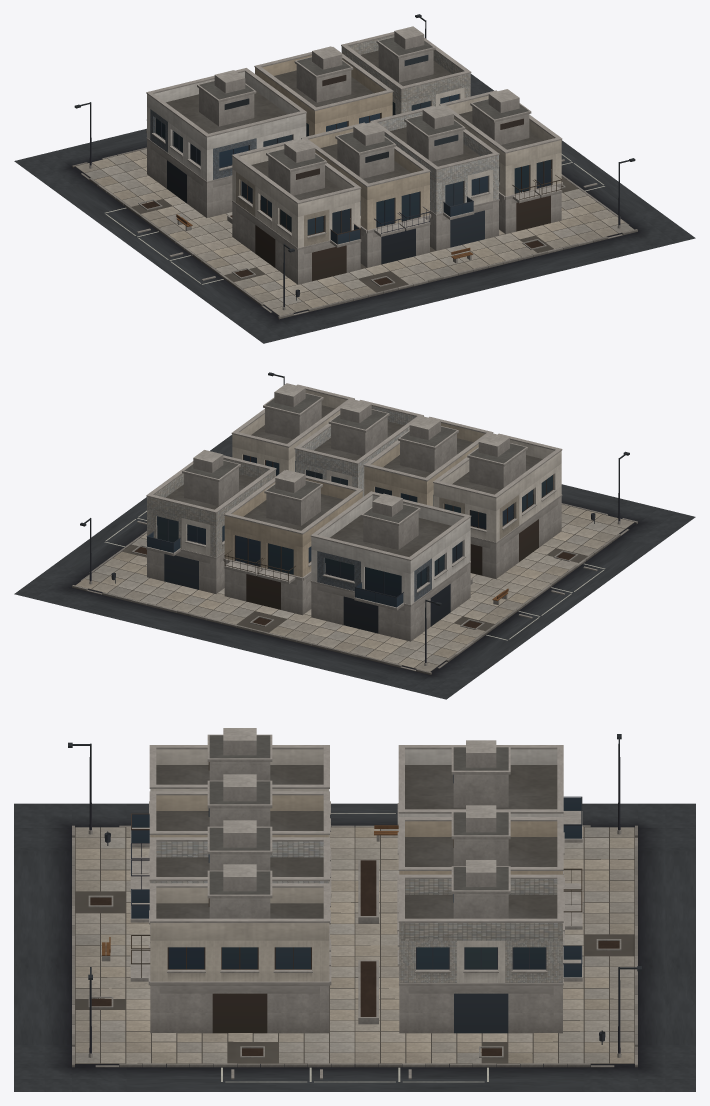
Rendered from modulo_E_lod0.glb.
The picture shows the model from 3 angles, top to bottom: view 1: azimuth 30°, elevation 25°; view 2: azimuth 150°, elevation 25°; view 3: azimuth 270°, elevation 25°; orthographic projection. The views are drawn at different scales.
Parts seen in each view (by area): view 1: modulo_E_lod0_tex, modulo_E_lod0_solid; view 2: modulo_E_lod0_tex, modulo_E_lod0_solid; view 3: modulo_E_lod0_tex, modulo_E_lod0_solid.
Boxes of the visible parts, x1,y1,x2,y2 form: modulo_E_lod0_tex: (14, 26, 695, 343); modulo_E_lod0_solid: (74, 14, 635, 306); modulo_E_lod0_tex: (14, 383, 695, 699); modulo_E_lod0_solid: (80, 372, 629, 662); modulo_E_lod0_tex: (14, 728, 695, 1091); modulo_E_lod0_solid: (68, 734, 641, 1053).
Bounding box in the file's own units: 40 × 9.61 × 40.
11 materials, 7 textured.
